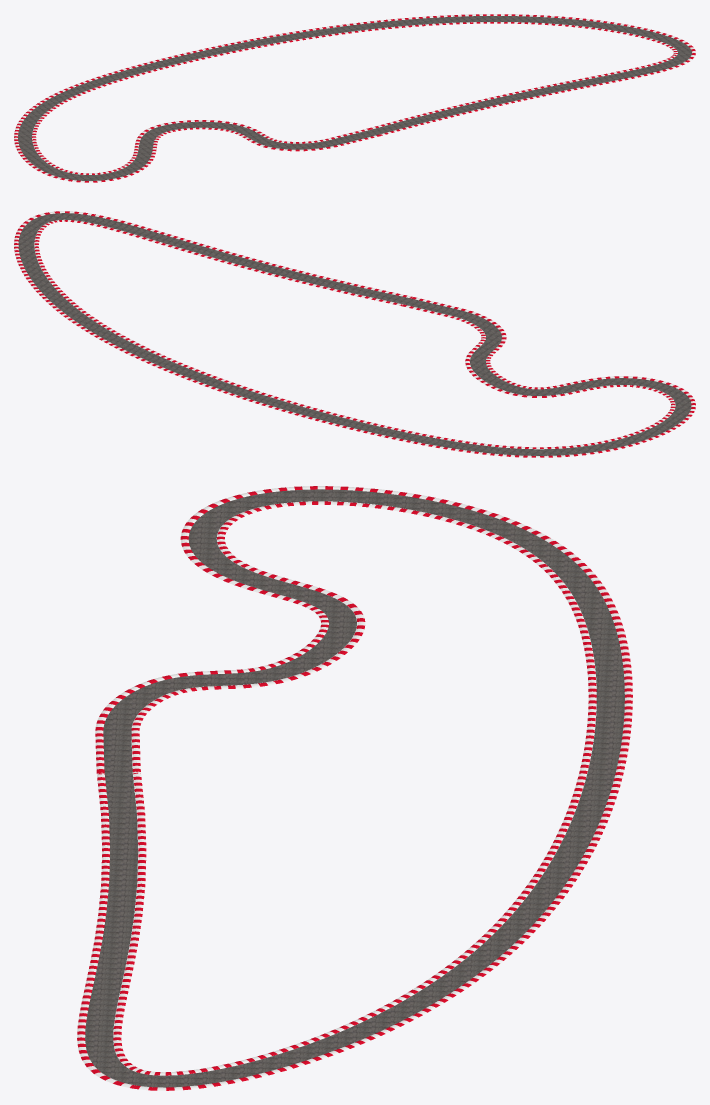
The model's file is track1.glb.
3 renders of one model, top to bottom at view 1: azimuth 30°, elevation 25°; view 2: azimuth 150°, elevation 25°; view 3: azimuth 270°, elevation 25°, orthographic. The views are drawn at different scales.
Visible parts, largest first — view 1: Plane, Circle.001, Circle.002; view 2: Plane, Circle.001, Circle.002; view 3: Plane, Circle.001, Circle.002.
Boxes of the visible parts, x1,y1,x2,y2 form: Plane: (18,16,691,180); Circle.001: (14,14,695,182); Circle.002: (32,22,677,174); Plane: (18,213,691,455); Circle.001: (14,211,695,457); Circle.002: (34,220,675,448); Plane: (85,489,624,1087); Circle.001: (77,486,632,1090); Circle.002: (113,501,596,1075).
Bounding box in the file's own units: 204 × 0.0761 × 79.23.
Materials: 5 (1 with a texture image).
